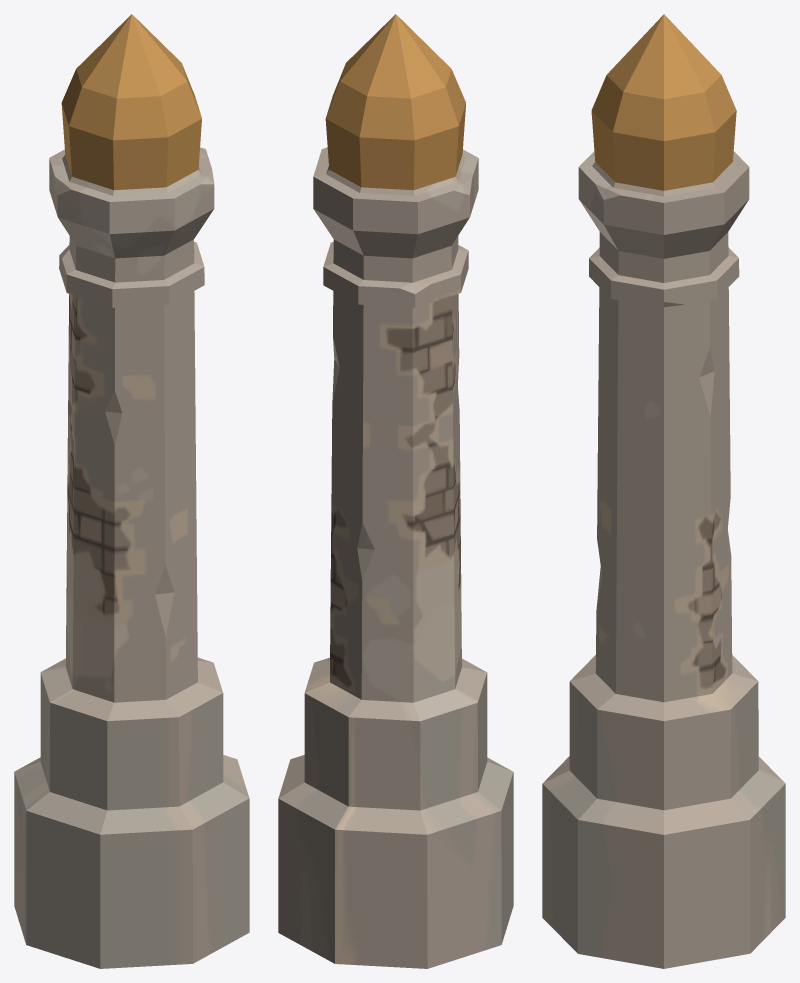
File: SM_Bld_Pillar_02.glb
3 renders of one model, left to right at view 1: azimuth 30°, elevation 25°; view 2: azimuth 150°, elevation 25°; view 3: azimuth 270°, elevation 25°, orthographic.
Visible parts, largest first — view 1: SM_Bld_Pillar_02; view 2: SM_Bld_Pillar_02; view 3: SM_Bld_Pillar_02.
Boxes of the visible parts, x1,y1,x2,y2 form: SM_Bld_Pillar_02: [14, 14, 249, 968]; SM_Bld_Pillar_02: [278, 14, 513, 968]; SM_Bld_Pillar_02: [542, 14, 785, 968].
Size of the model in its own units: 2.04 by 8.35 by 2.04.
1 material, 1 textured.
